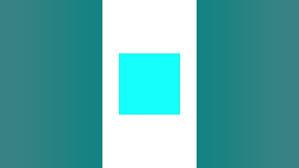cyan_zone: (116, 48, 183, 120)
